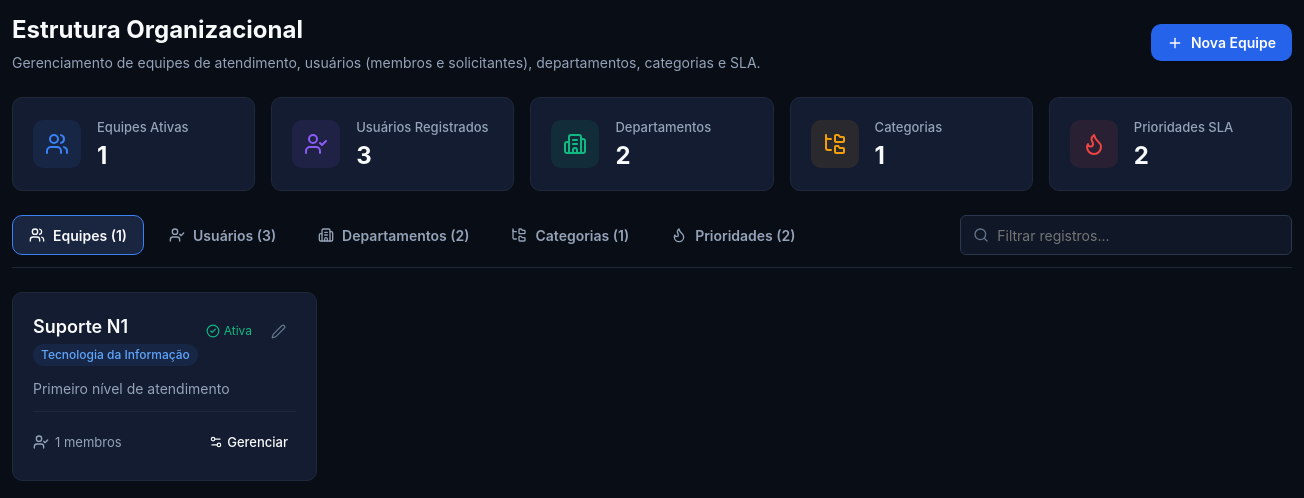
Test case: TeamsPage Component › switches to priorities tab and displays SLA priority badges
Click the button "Prioridades (2)" at x=733, y=235, box [654,215,812,255]
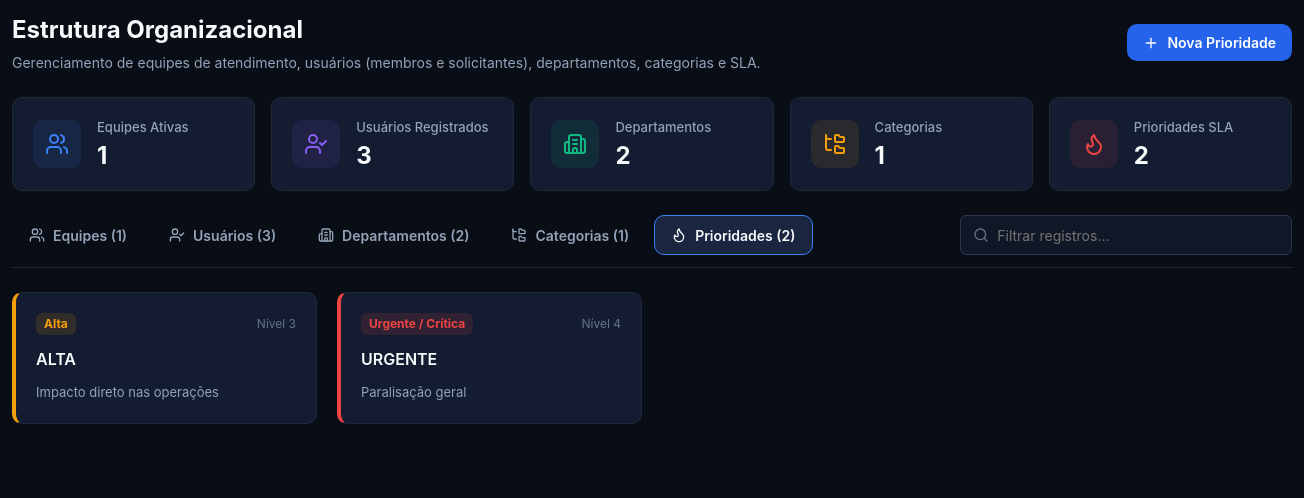
expect the heading "ALTA" is shown: met, box [36,349,76,369]
expect the heading "URGENTE" is shown: met, box [361,349,437,369]
